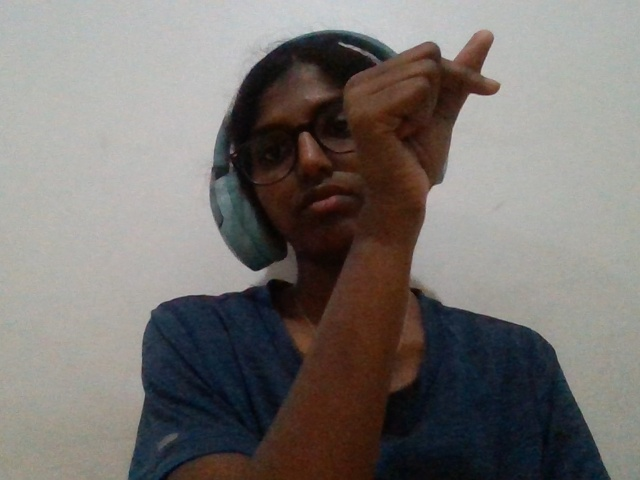G: (313, 15, 515, 275)
